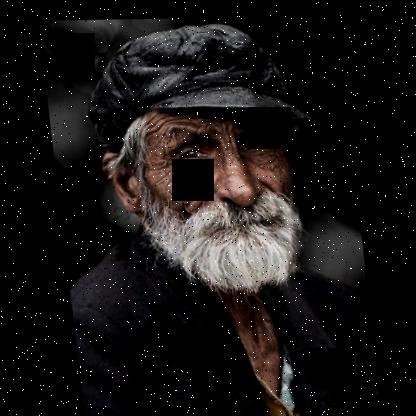Male: (97, 91, 301, 295)
